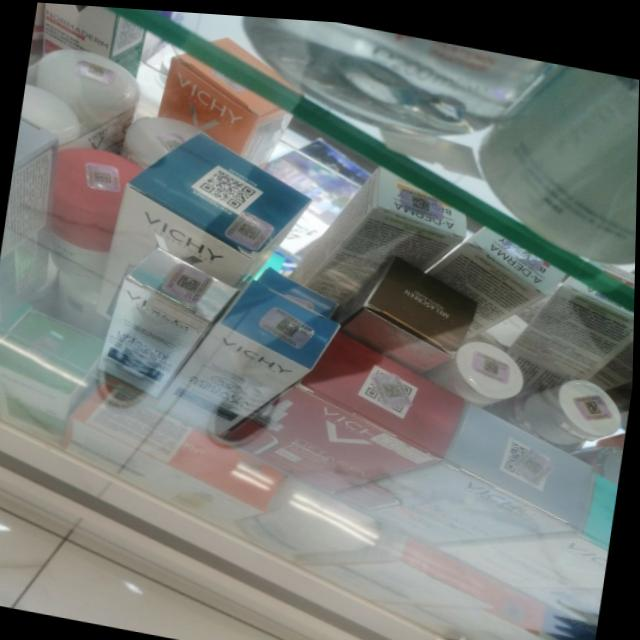datamatrix: (276, 312, 304, 336), (177, 269, 205, 292), (238, 216, 264, 239), (382, 375, 408, 395)
qrcode: (197, 162, 261, 211)
